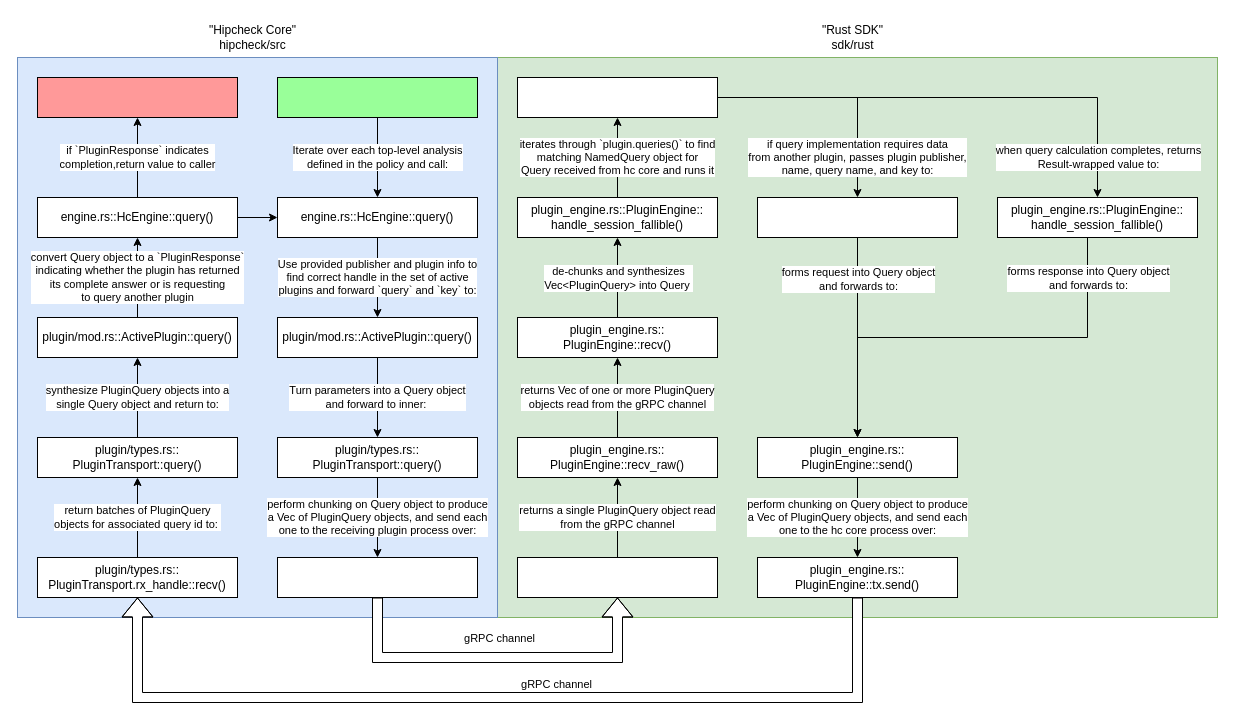
The diagram is 1235 pixels wide and 720 high, and some of its shapes have lost their labels. Here are the shapes that lost their labels. From the top down, the centre of each, then its label:
At [137,97]: "score.rs::score_results() / engine.rs::HcEngine::query()".
At [377,97]: "score.rs::score_results()".
At [617,97]: "lib.rs::Query::run()".
At [857,217]: "plugin_engine.rs:: PluginEngine::query()".
At [377,577]: "plugin/types.rs:: PluginTransport.tx::send()".
At [617,577]: "plugin_engine.rs:: PluginEngine.rx.recv()".
